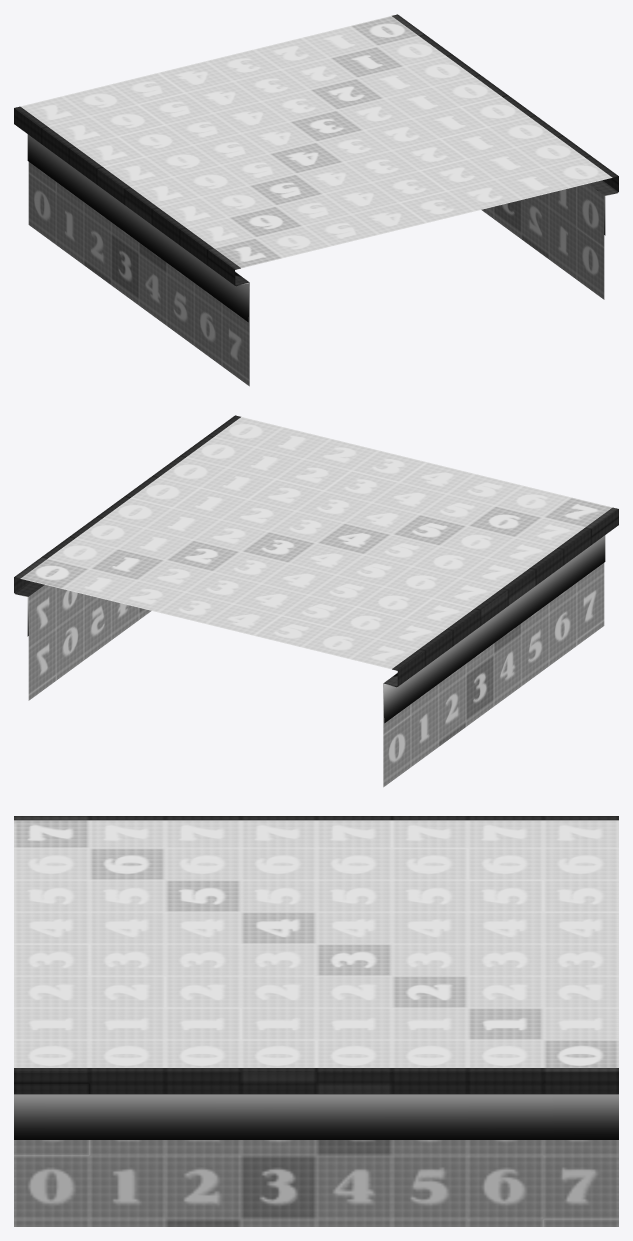
The model's file is Podium01_3.FBX.
3 views of the same model, one above another, from view 1: azimuth 30°, elevation 25°; view 2: azimuth 150°, elevation 25°; view 3: azimuth 270°, elevation 25° (orthographic). The views are drawn at different scales.
Visible parts, largest first — view 1: Podium, Backlight; view 2: Podium, Backlight; view 3: Podium, Backlight.
Boxes of the visible parts, x1=… form: Podium: x1=14, y1=14, x2=618, y2=386; Backlight: x1=27, y1=134, x2=617, y2=322; Podium: x1=14, y1=415, x2=618, y2=787; Backlight: x1=15, y1=535, x2=605, y2=723; Podium: x1=14, y1=816, x2=618, y2=1226; Backlight: x1=14, y1=1094, x2=618, y2=1139.
Bounding box in the file's own units: 250 × 75 × 250.
